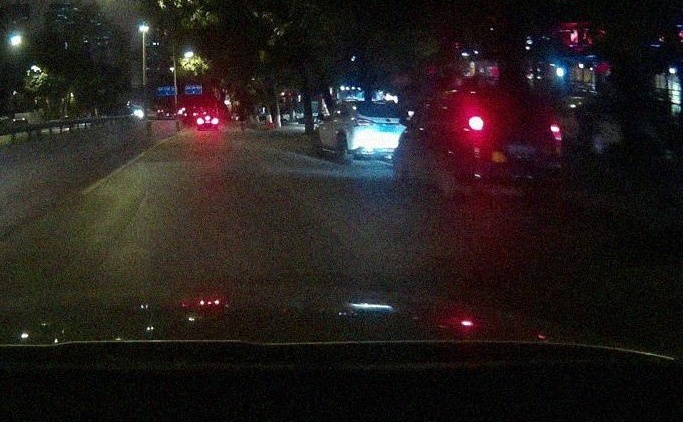L_light: (468, 115, 484, 131)
R_light: (550, 124, 562, 141)
T_light: (501, 95, 523, 100)
night-left: (456, 91, 563, 190)
